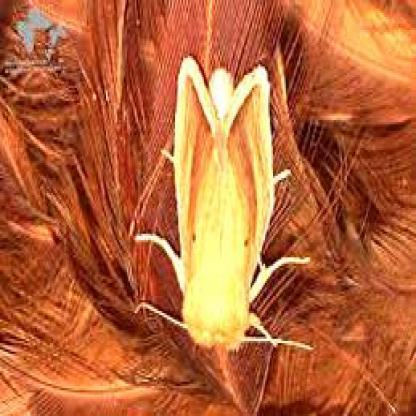stem-borer: (158, 48, 280, 360)
